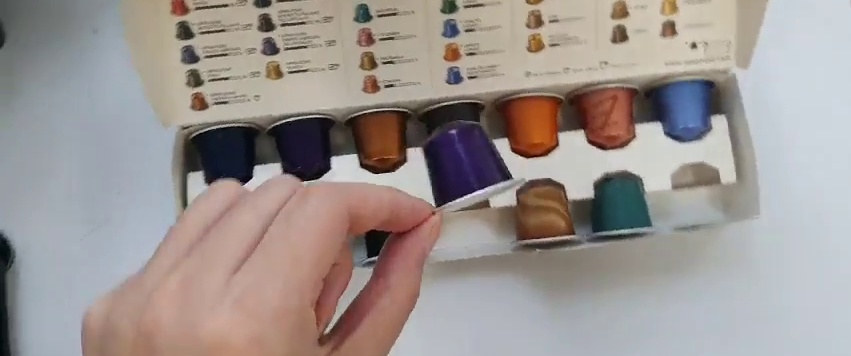capsule_11: (422, 121, 528, 218)
